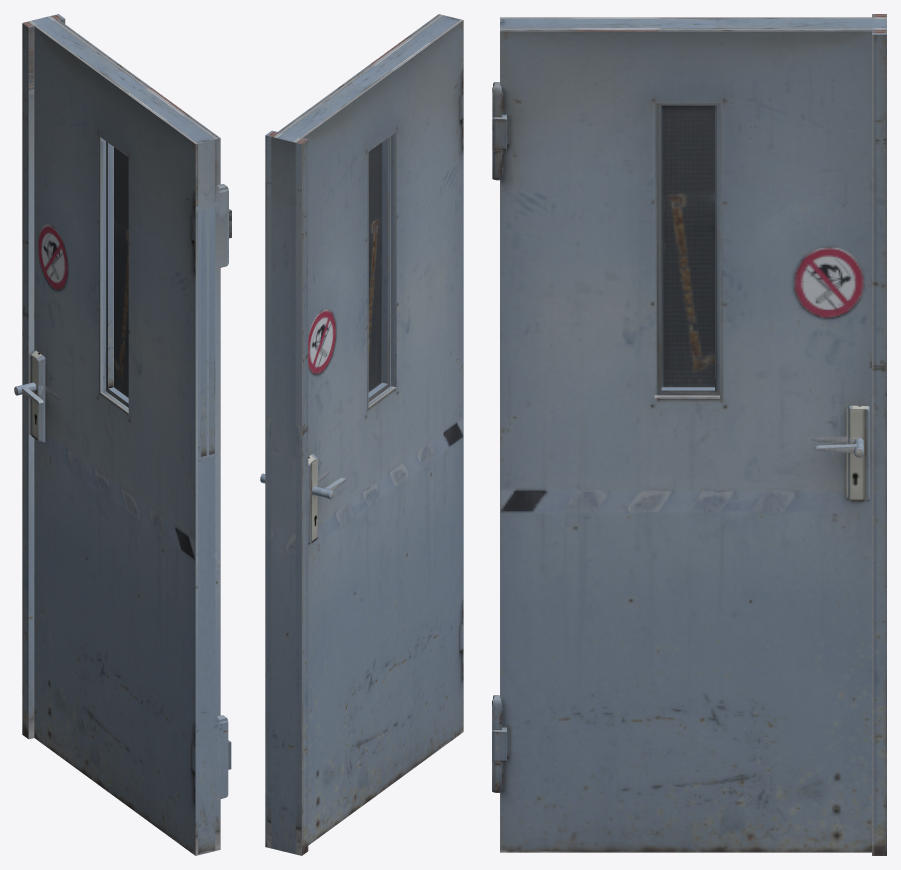
Rendered from SM_Door_Left.fbx.
3 views of the same model, side by side, from view 1: azimuth 30°, elevation 25°; view 2: azimuth 150°, elevation 25°; view 3: azimuth 270°, elevation 25° (orthographic). The views are drawn at different scales.
Visible parts, largest first — view 1: SM_Door_Left; view 2: SM_Door_Left; view 3: SM_Door_Left.
Part boxes in pixels (left/top/right/bottom): SM_Door_Left: left=14, top=14, right=231, bottom=855; SM_Door_Left: left=260, top=14, right=463, bottom=855; SM_Door_Left: left=492, top=14, right=886, bottom=855.
Size of the model in its own units: 30 by 127 by 291.
1 material, 1 textured.
